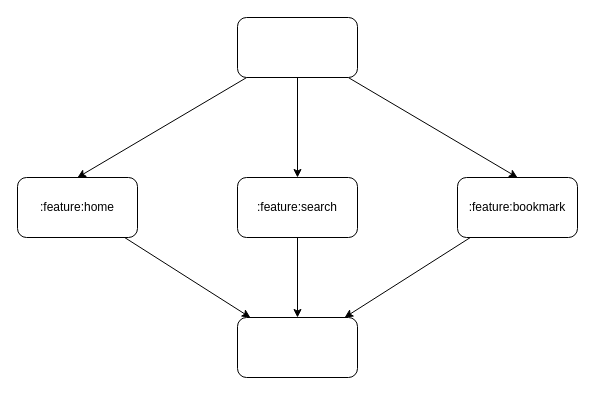
Image size: 595x395. Some labels were removed from this diagram. Each missing label, with the centre of its shape:
":app" belongs at point 297,47.
":domain:news" belongs at point 297,347.
